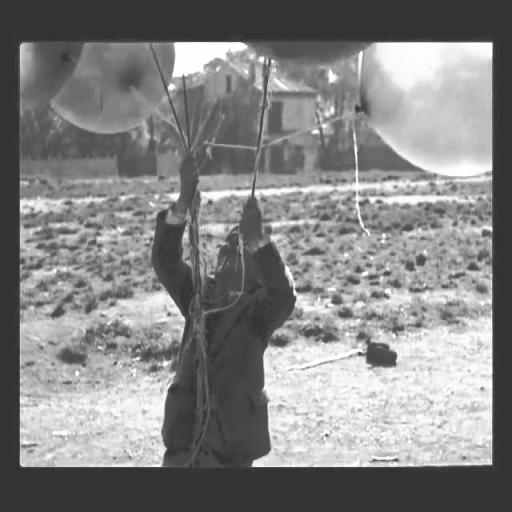balloon: (358, 40, 493, 178), (50, 40, 175, 136), (20, 40, 80, 114), (242, 40, 372, 66)
